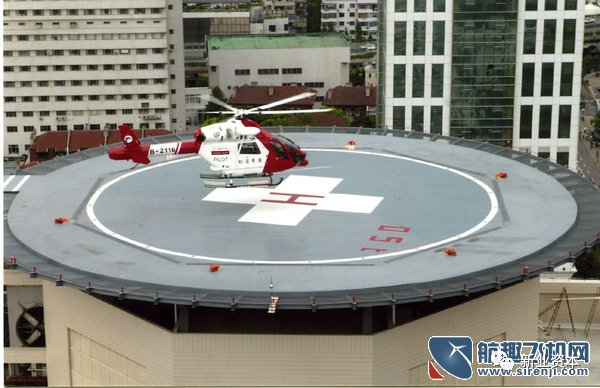H: (261, 193, 325, 207)
